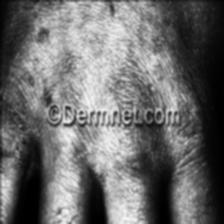Toxin: (17, 49, 196, 104), (0, 141, 30, 170)
